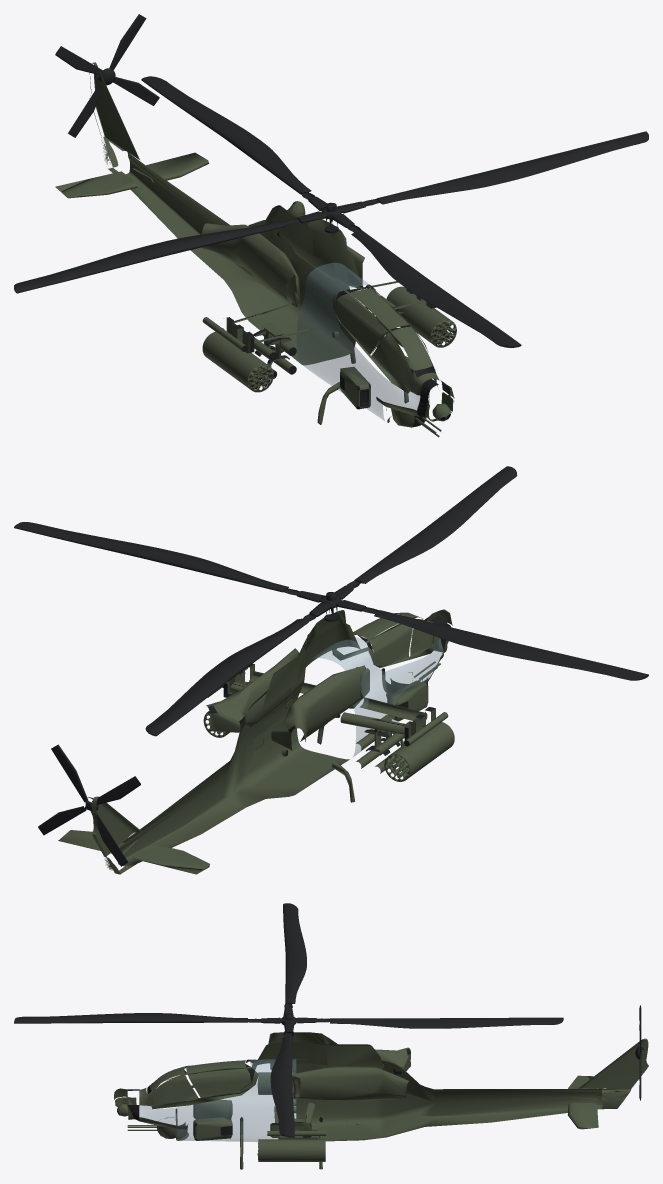
The model's file is cobra.glb.
The picture shows the model from 3 angles, top to bottom: view 1: azimuth 30°, elevation 25°; view 2: azimuth 150°, elevation 25°; view 3: azimuth 270°, elevation 25°; orthographic projection. The views are drawn at different scales.
Parts seen in each view (by area): view 1: olive, main, glass, tail, dark; view 2: olive, main, glass, tail, dark; view 3: olive, main, glass, dark.
Boxes of the visible parts, x1,y1,x2,y2 form: olive: [55, 62, 456, 437]; main: [14, 76, 648, 347]; glass: [297, 263, 419, 420]; tail: [55, 14, 159, 137]; dark: [96, 74, 454, 427]; olive: [58, 609, 454, 874]; main: [14, 466, 648, 736]; glass: [312, 637, 443, 756]; tail: [38, 744, 140, 866]; dark: [89, 607, 447, 810]; olive: [114, 1032, 648, 1169]; main: [14, 903, 563, 1137]; glass: [139, 1059, 295, 1141]; dark: [117, 1031, 643, 1169].
Size of the model in its own units: 12.48 by 3.66 by 14.42.
